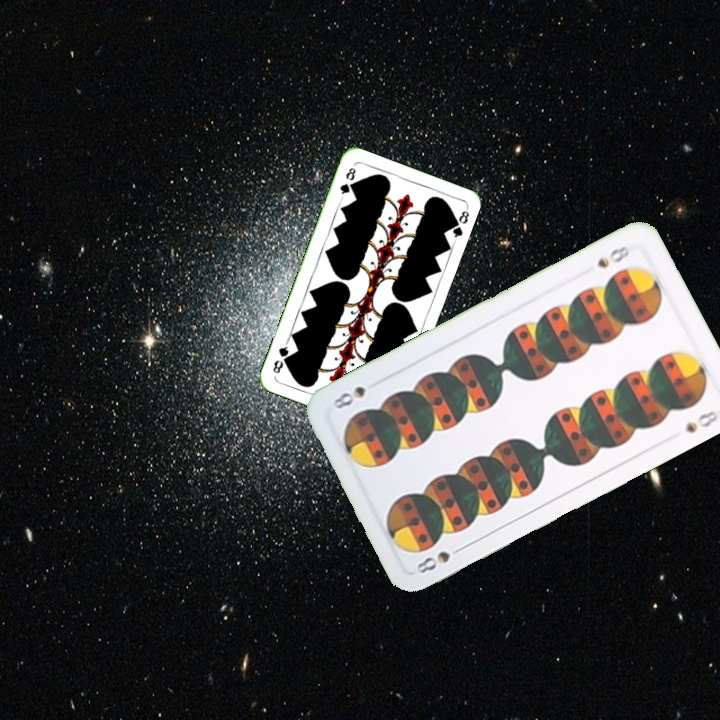G8: (335, 163, 358, 201)
S8: (412, 541, 468, 577), (593, 241, 632, 271)
